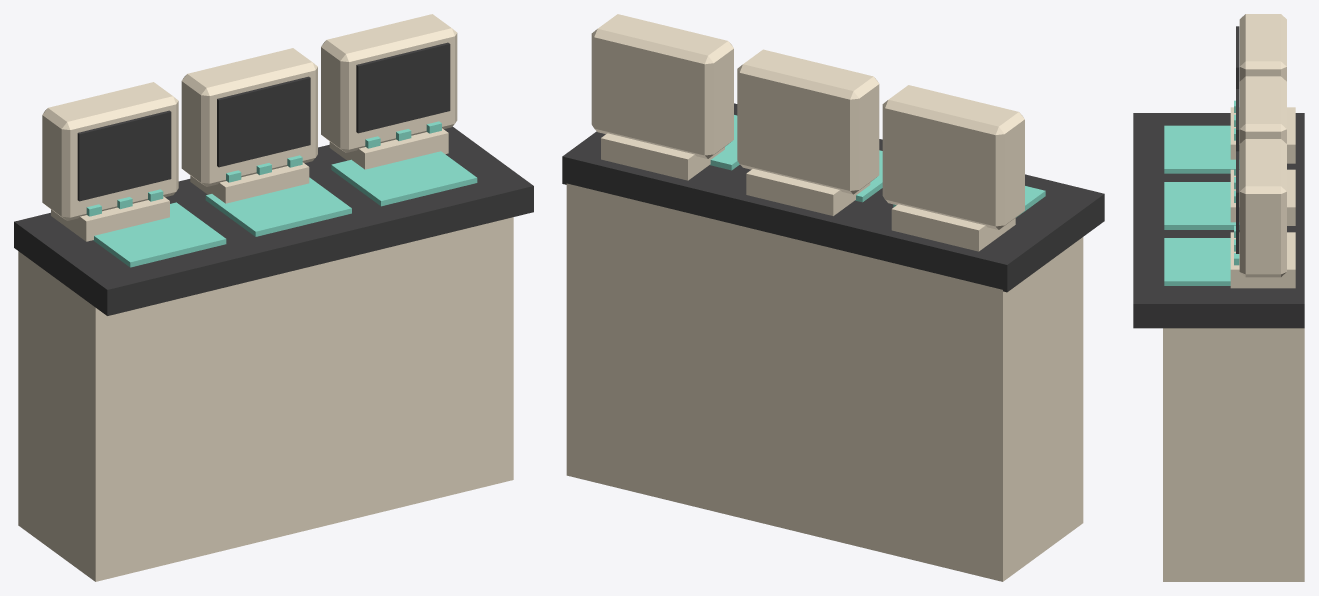
3 renders of one model, left to right at view 1: azimuth 30°, elevation 25°; view 2: azimuth 150°, elevation 25°; view 3: azimuth 270°, elevation 25°, orthographic. The views are drawn at different scales.
Parts seen in each view (by area): view 1: Console, Panel, Housing, Housing.001, Housing.002, Readout.003, Readout.005, Readout.004, Readout.002, Readout.001, Readout, Foot (+2 smaller); view 2: Console, Panel, Housing, Housing.001, Housing.002, Foot, Foot.001, Foot.002; view 3: Console, Panel, Housing.002, Readout, Readout.001, Readout.002, Housing, Housing.001, Foot.002, Foot.001, Foot, Readout.005 (+2 smaller).
Boxes of the visible parts, x1=… form: Console: x1=18, y1=217, x2=513, y2=581; Panel: x1=14, y1=126, x2=533, y2=315; Housing: x1=42, y1=82, x2=178, y2=220; Housing.001: x1=181, y1=48, x2=317, y2=186; Housing.002: x1=321, y1=14, x2=457, y2=152; Readout.003: x1=77, y1=110, x2=171, y2=201; Readout.005: x1=356, y1=42, x2=450, y2=133; Readout.004: x1=217, y1=76, x2=310, y2=167; Readout.002: x1=331, y1=151, x2=477, y2=206; Readout.001: x1=205, y1=177, x2=351, y2=236; Readout: x1=93, y1=202, x2=226, y2=267; Foot: x1=51, y1=196, x2=169, y2=241; Console: x1=566, y1=183, x2=1083, y2=581; Panel: x1=562, y1=103, x2=1104, y2=292; Housing: x1=882, y1=85, x2=1024, y2=229; Housing.001: x1=737, y1=49, x2=879, y2=194; Housing.002: x1=591, y1=14, x2=733, y2=158; Foot: x1=891, y1=204, x2=1015, y2=251; Foot.001: x1=746, y1=169, x2=870, y2=215; Foot.002: x1=601, y1=133, x2=724, y2=180; Console: x1=1163, y1=328, x2=1304, y2=581; Panel: x1=1133, y1=113, x2=1304, y2=328; Housing.002: x1=1239, y1=139, x2=1286, y2=277; Readout: x1=1164, y1=125, x2=1239, y2=173; Readout.001: x1=1164, y1=182, x2=1239, y2=229; Readout.002: x1=1164, y1=238, x2=1230, y2=285; Housing: x1=1239, y1=14, x2=1286, y2=81; Housing.001: x1=1239, y1=76, x2=1286, y2=143; Foot.002: x1=1230, y1=232, x2=1295, y2=288; Foot.001: x1=1230, y1=169, x2=1295, y2=225; Foot: x1=1230, y1=107, x2=1295, y2=163; Readout.005: x1=1236, y1=151, x2=1239, y2=253.
Bounding box in the file's own units: 153 × 145 × 58.
